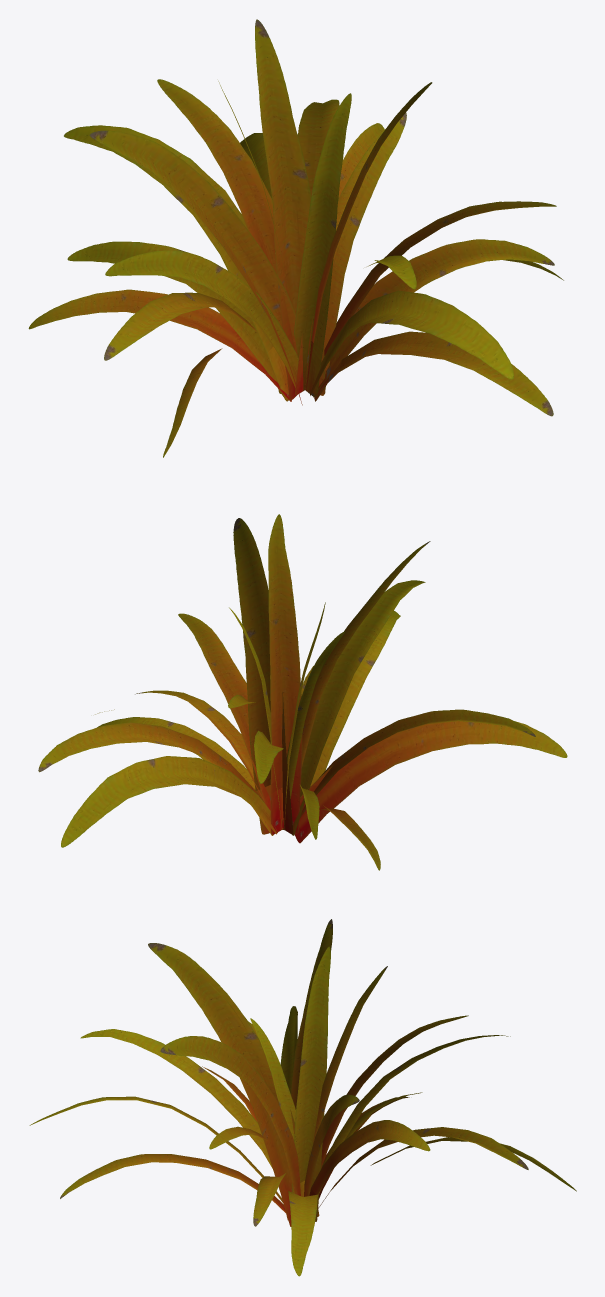
The model's file is Plant - Alien Plant 10 2-Cm_boWHa.glb.
3 renders of one model, top to bottom at view 1: azimuth 30°, elevation 25°; view 2: azimuth 150°, elevation 25°; view 3: azimuth 270°, elevation 25°, orthographic. The views are drawn at different scales.
Parts seen in each view (by area): view 1: PLant_10_2_L0(Clone); view 2: PLant_10_2_L0(Clone); view 3: PLant_10_2_L0(Clone).
Part boxes in pixels (x1,y1,x2,y2): PLant_10_2_L0(Clone): (28,19,563,457); PLant_10_2_L0(Clone): (38,514,567,870); PLant_10_2_L0(Clone): (29,919,576,1276).
Bounding box in the file's own units: 1.79 × 1.14 × 2.11.
Materials: 1 (1 with a texture image).
